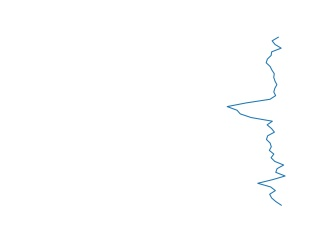interdistributaryEstuary: (222, 37, 292, 209)
